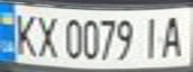0: (60, 15, 84, 61), (81, 15, 100, 61)
7: (100, 16, 118, 61)
9: (115, 15, 139, 61)
A: (157, 11, 190, 58)
I: (136, 12, 166, 61)
K: (9, 9, 42, 57)
X: (30, 11, 60, 58)
